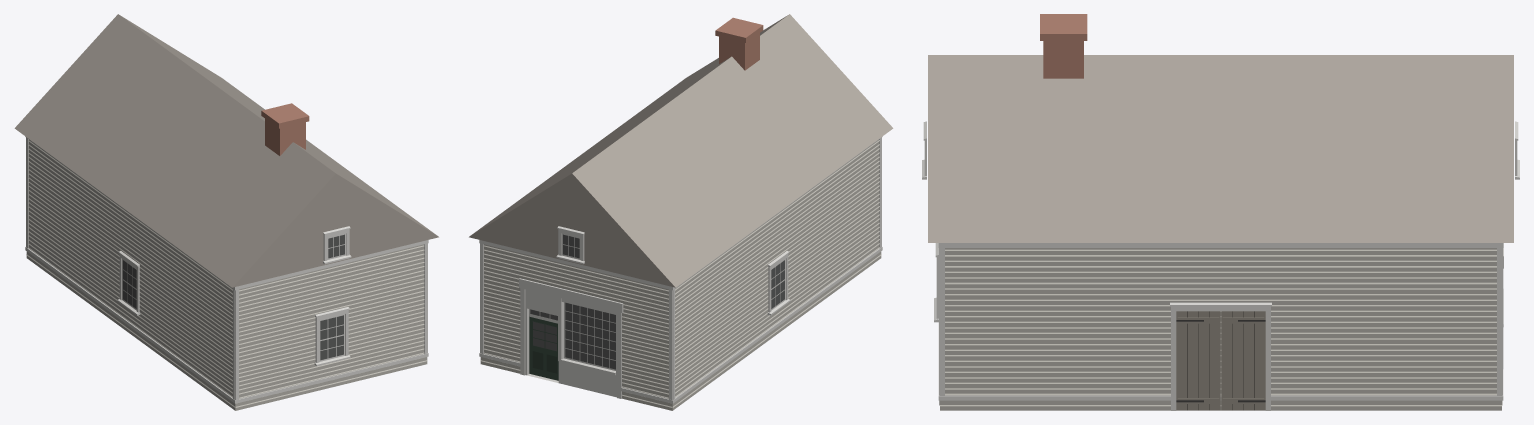
The model's file is recon_1835_blk_lake_clark_c2_02__inferred_1835.glb.
The picture shows the model from 3 angles, left to right: view 1: azimuth 30°, elevation 25°; view 2: azimuth 150°, elevation 25°; view 3: azimuth 270°, elevation 25°; orthographic projection. The views are drawn at different scales.
Parts seen in each view (by area): view 1: recon_1835_blk_lake_clark_c2_02__inferred_1835; view 2: recon_1835_blk_lake_clark_c2_02__inferred_1835; view 3: recon_1835_blk_lake_clark_c2_02__inferred_1835.
Part boxes in pixels (left/top/right/bottom): recon_1835_blk_lake_clark_c2_02__inferred_1835: left=14, top=14, right=438, bottom=410; recon_1835_blk_lake_clark_c2_02__inferred_1835: left=469, top=14, right=893, bottom=410; recon_1835_blk_lake_clark_c2_02__inferred_1835: left=922, top=14, right=1519, bottom=410.
Bounding box in the file's own units: 6.68 × 7.4 × 12.39.
